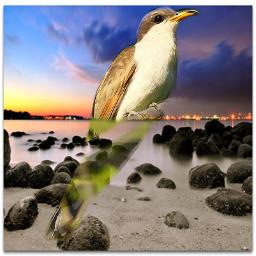Cuckoo: (42, 2, 203, 246)
